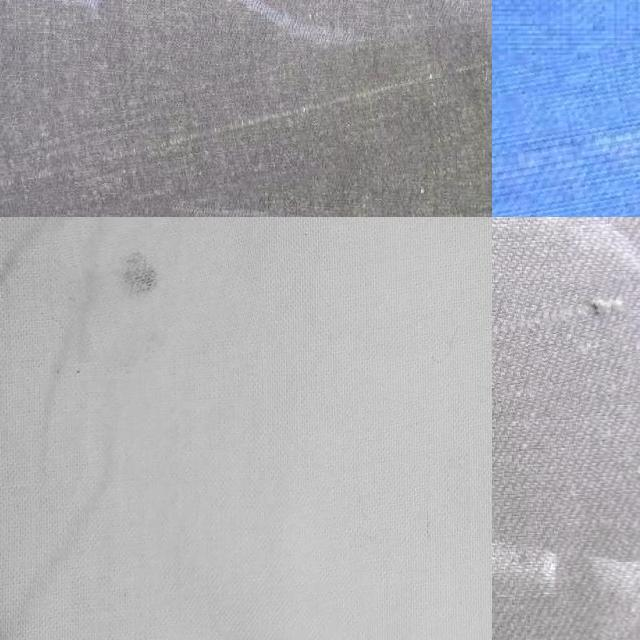Thread_other: (62, 218, 266, 356), (378, 483, 492, 629)
stains: (0, 35, 492, 213), (492, 0, 640, 217), (492, 296, 640, 475)
